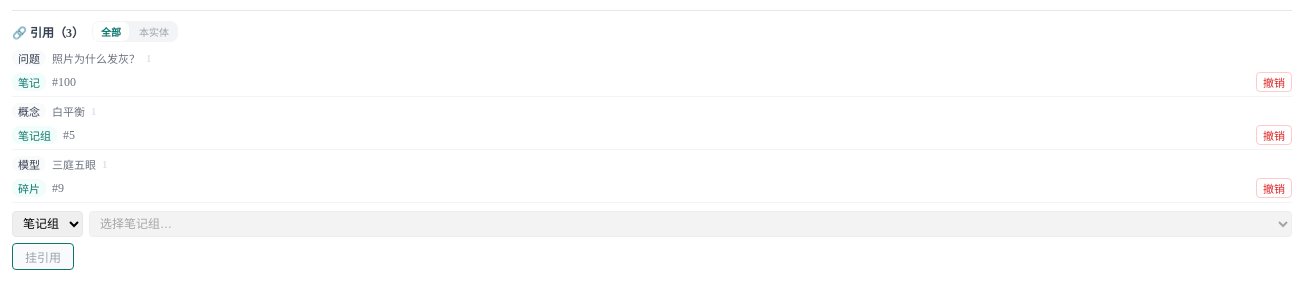
Test: KnowledgeLinkSection 聚合视图（v0.14 C3） › 切回「全部」恢复聚合分组
Click the button with test id "ref-mode-entity". click: (154, 32)
box: [131, 22, 177, 41]
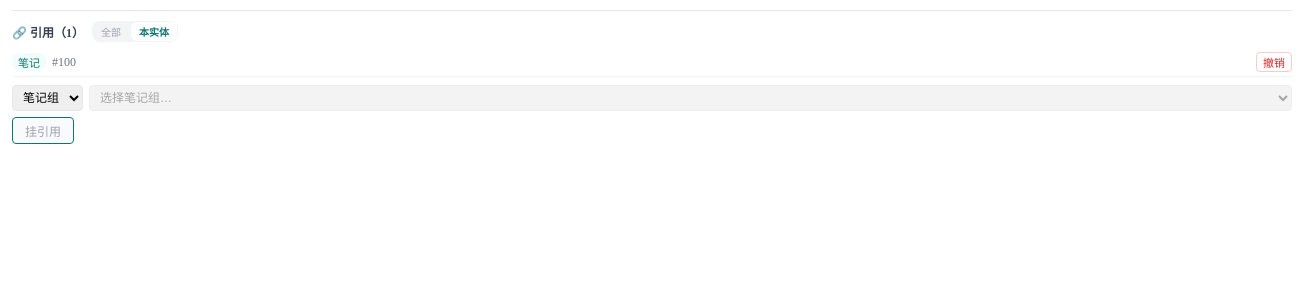
Click the button with test id "ref-mode-all". click: (111, 32)
box: [93, 22, 129, 41]
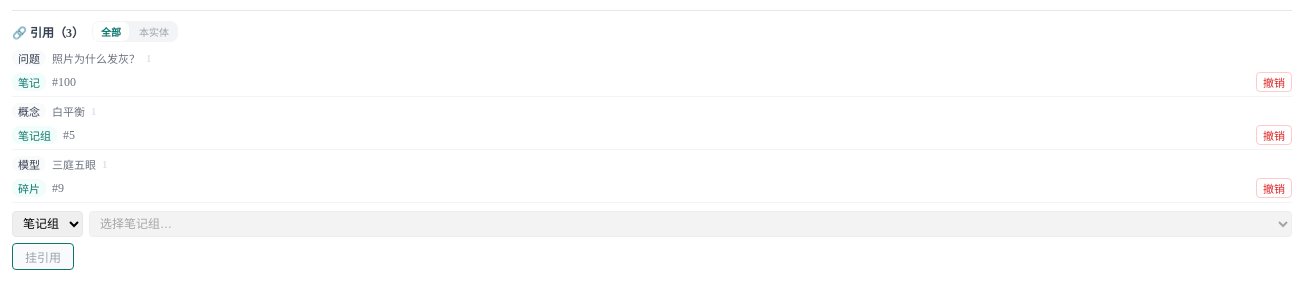
Result: the number of elements with test id "link-row" is 3 at [12, 68, 1292, 97]; [12, 121, 1292, 150]; [12, 174, 1292, 203]
